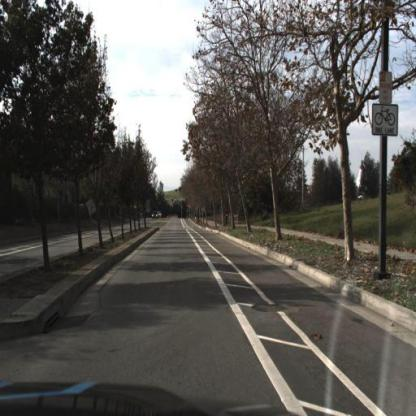car: (152, 213, 159, 222)
pedestrian: (225, 206, 230, 229)
